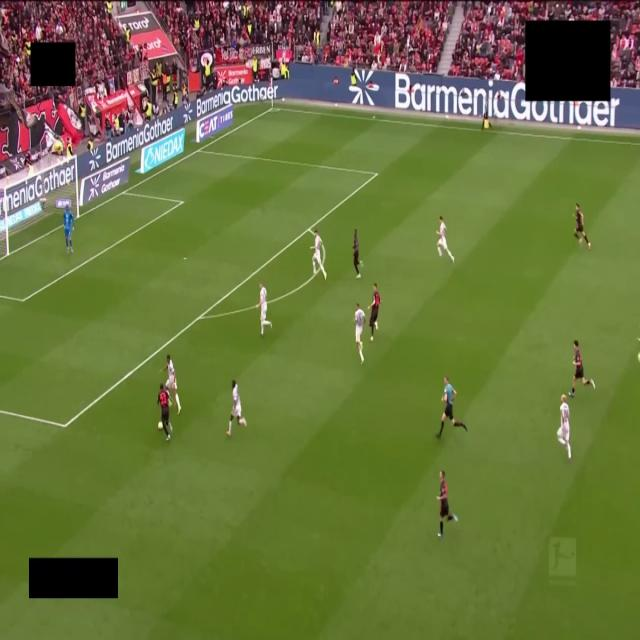ball: (157, 422, 163, 431)
player: (570, 341, 595, 397), (437, 471, 457, 537), (227, 380, 246, 436), (162, 355, 180, 414), (557, 395, 571, 459), (158, 384, 172, 440), (437, 216, 454, 262), (311, 230, 326, 279), (258, 283, 272, 335), (575, 204, 590, 248), (354, 304, 365, 363), (369, 283, 380, 341), (63, 206, 74, 253), (353, 230, 362, 279)
referee: (437, 376, 467, 438)
